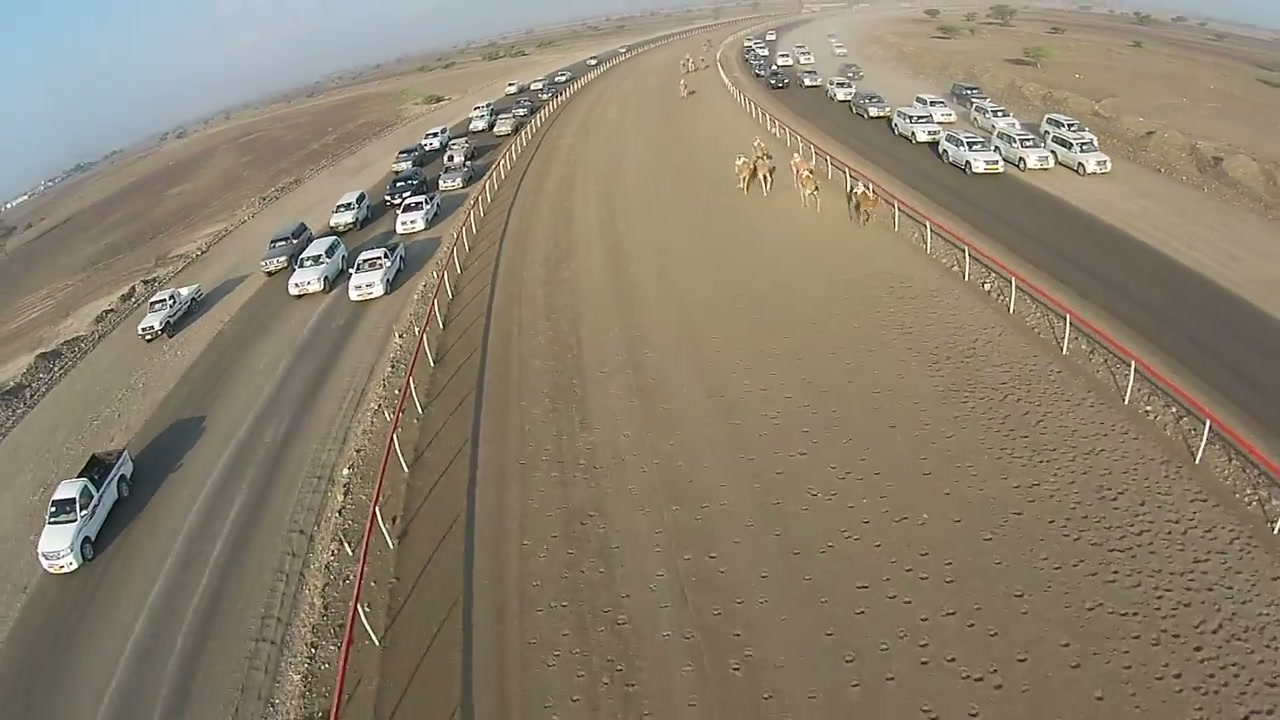animal_footprint: (842, 238, 1279, 708), (702, 415, 1042, 713), (528, 410, 800, 704)
